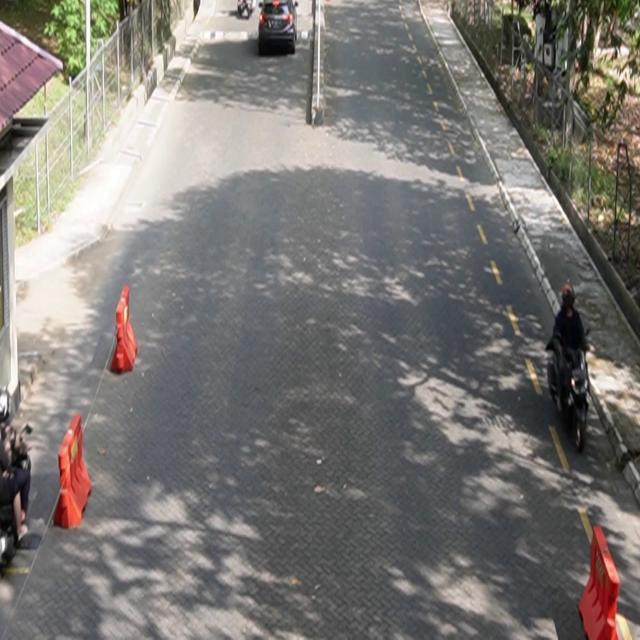car: (259, 1, 299, 56)
